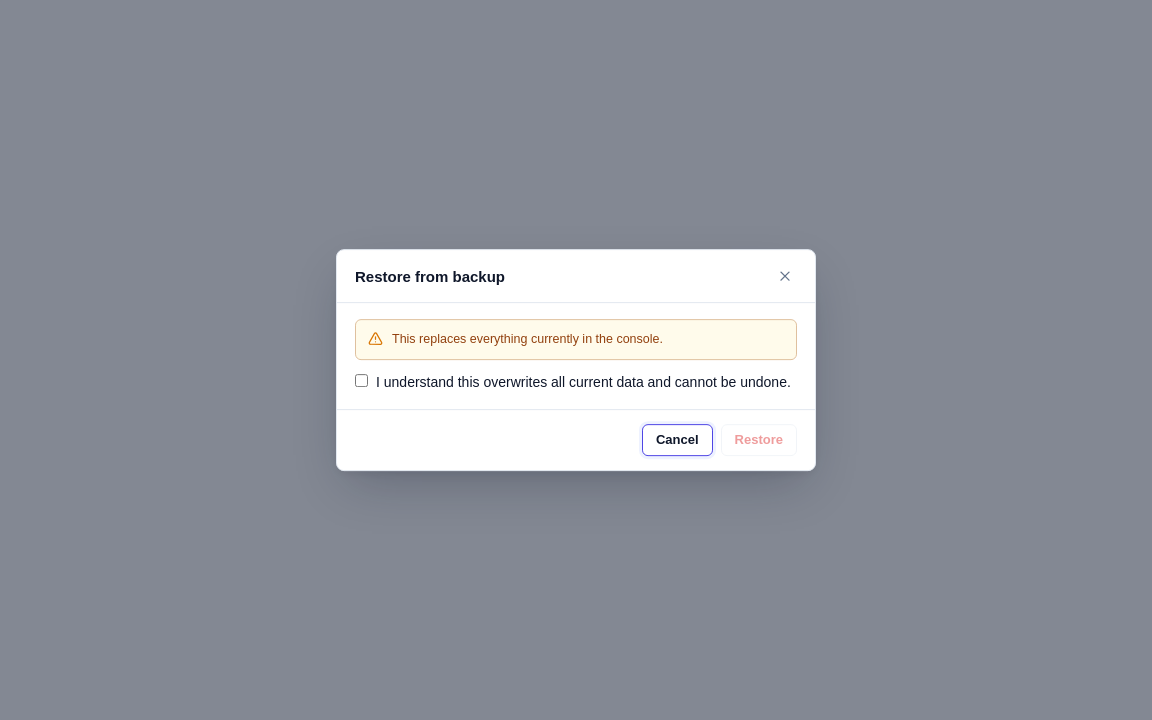
Test: ChecklistConfirmDialog › the danger action starts disabled until the checkbox is ticked
The image size is (1152, 720).
Check: the button "Restore" is disabled, box [721,424,797,456]
Click the checkbox.
click(362, 380)  # box [355,374,368,387]
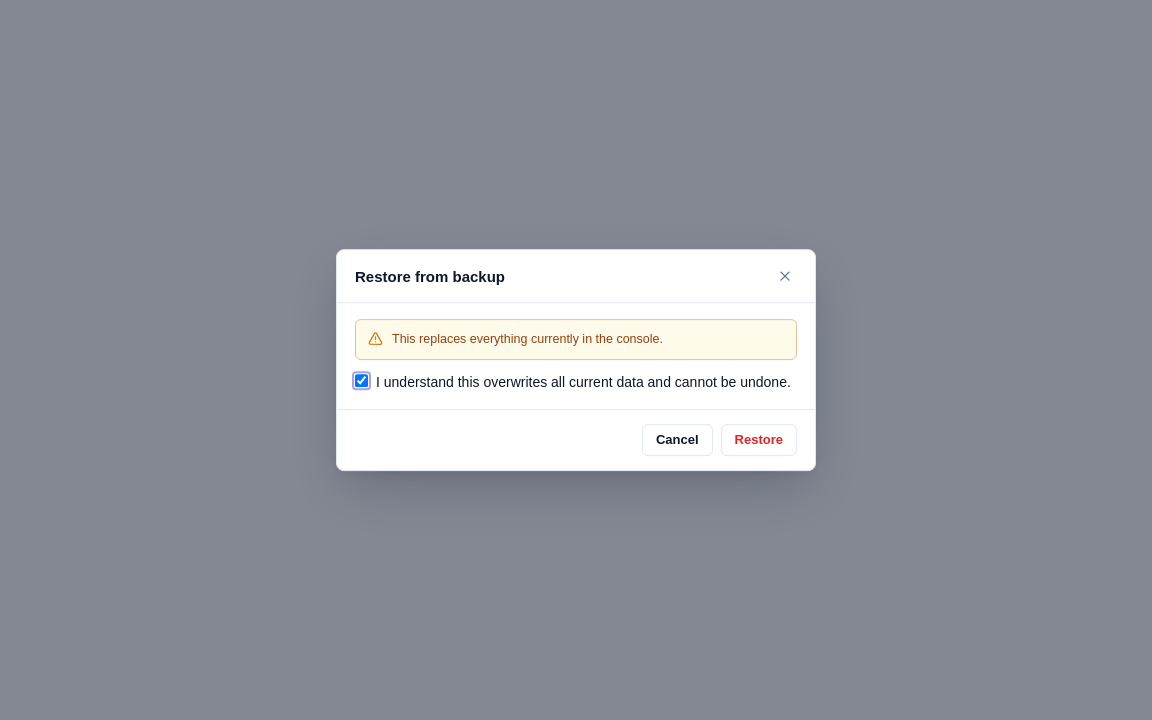
Check: the button "Restore" is enabled, box [721,424,797,456]
